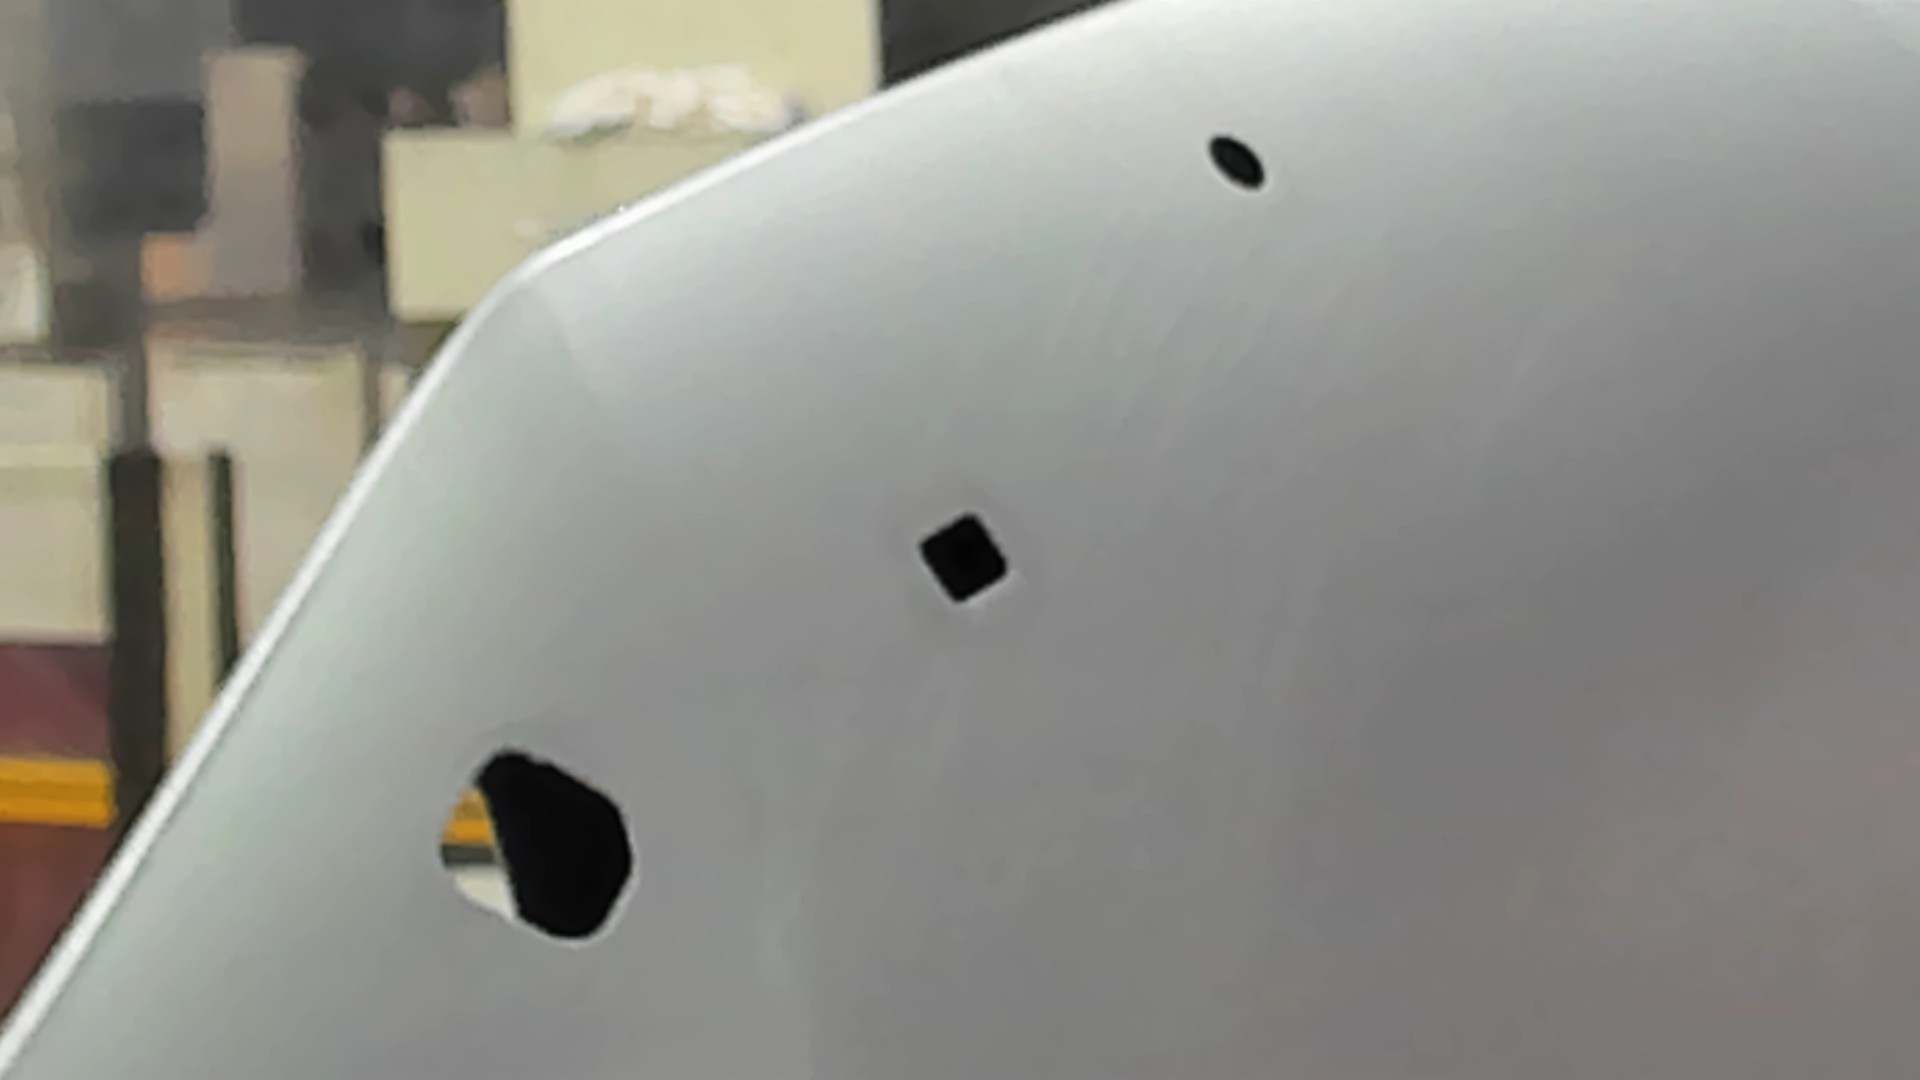capo: (1022, 203, 1920, 1080)
chico: (1204, 128, 1269, 194)
grande: (429, 741, 644, 953)
mediano: (910, 506, 1014, 609)
